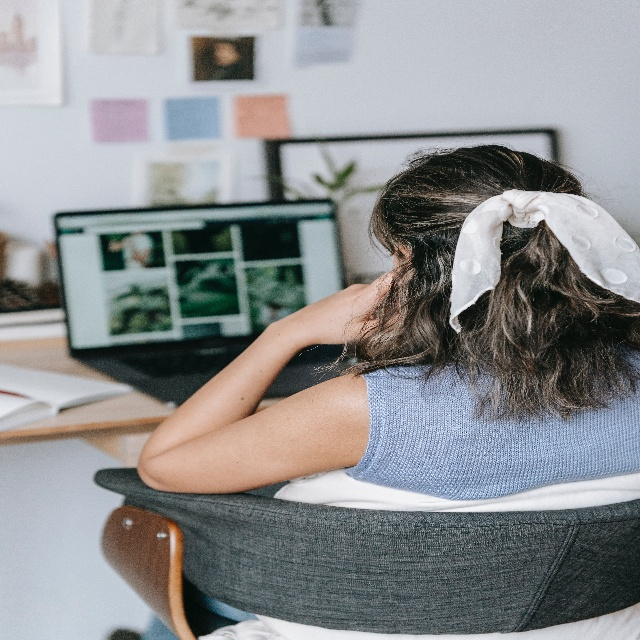Sin_guantes: (308, 265, 414, 344)
